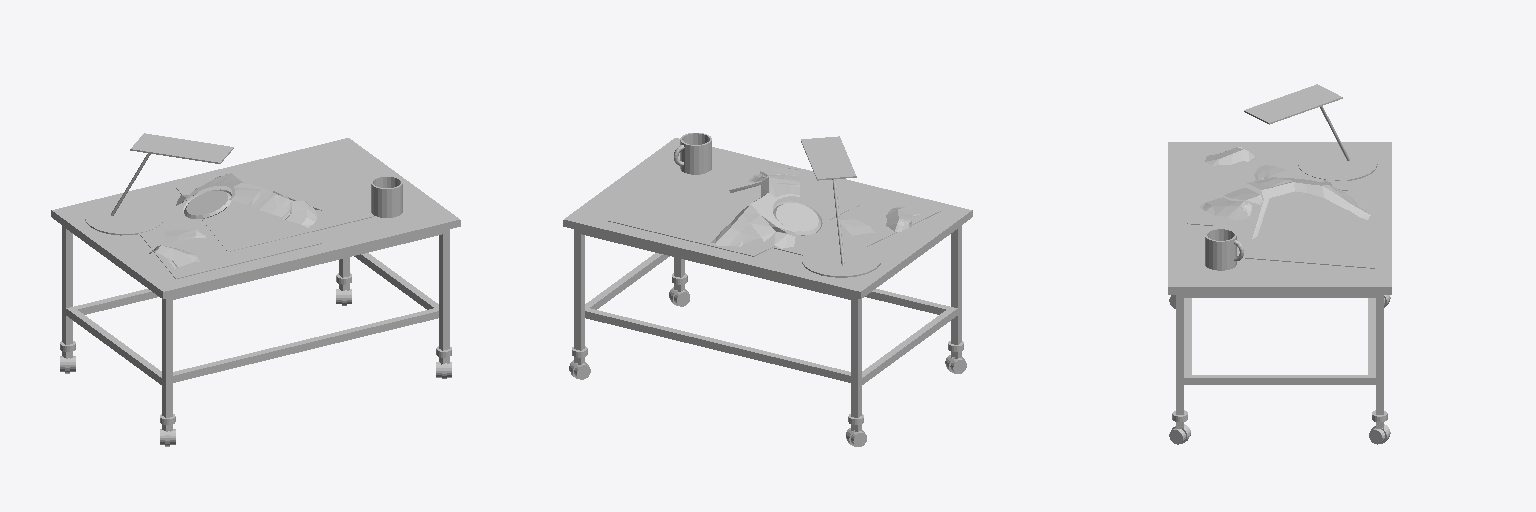
The model's file is Mesa.obj.
The picture shows the model from 3 angles: view 1: azimuth 30°, elevation 25°; view 2: azimuth 150°, elevation 25°; view 3: azimuth 270°, elevation 25°; orthographic projection.
Visible parts, largest first — view 1: pCube5, pasted__pCube10 group11, pCube10, pasted__pCube7 group10, pCylinder4, pCube9, group5 pasted__group pasted__pasted__pCube1, group5 pasted__pCube3, pasted__pasted__pCube4 pasted__group7 group8, polySurface1, pasted__pCube3 group, Chest:polySurface2pCylinder1polySurface5 polySurface4 (+6 smaller); view 2: pCube5, pasted__pCube10 group11, pCube10, Chest:polySurface2pCylinder1polySurface5 polySurface4, pCube7, pCylinder4, pCube9, pasted__pCube3 group, group pasted__pCube1, pasted__pasted__pCube4 pasted__group7 group8, polySurface1, group5 pasted__pCube3 (+5 smaller); view 3: pCube5, pasted__pCube10 group11, pCube10, pCylinder4, pasted__pCube4 group7, Chest:polySurface2pCylinder1polySurface5 polySurface4, pCube9, polySurface1, group5 pasted__group pasted__pasted__pCube1, group pasted__pCube1, polySurface6 Chest:polySurface2pCylinder1polySurface5, pasted__pCube7 group10 (+3 smaller).
Part boxes in pixels (x1,y1,x2,y2): pCube5: (51,138,460,298); pasted__pCube10 group11: (176,151,373,251); pCube10: (139,200,321,278); pasted__pCube7 group10: (173,307,438,382); pCylinder4: (85,201,163,235); pCube9: (130,133,233,163); group5 pasted__group pasted__pasted__pCube1: (439,229,449,364); group5 pasted__pCube3: (162,297,172,431); pasted__pasted__pCube4 pasted__group7 group8: (65,308,163,386); polySurface1: (371,176,402,217); pasted__pCube3 group: (62,226,72,358); Chest:polySurface2pCylinder1polySurface5 polySurface4: (176,173,321,210); pCube5: (563,138,972,298); pasted__pCube10 group11: (608,169,860,256); pCube10: (773,176,940,255); Chest:polySurface2pCylinder1polySurface5 polySurface4: (711,177,799,248); pCube7: (585,308,850,382); pCylinder4: (802,243,880,277); pCube9: (801,136,856,180); pasted__pCube3 group: (851,297,861,431); group pasted__pCube1: (574,229,584,364); pasted__pasted__pCube4 pasted__group7 group8: (860,307,959,386); polySurface1: (674,133,711,174); group5 pasted__pCube3: (951,226,961,358); pCube5: (1168,142,1391,294); pasted__pCube10 group11: (1215,184,1374,268); pCube10: (1187,152,1346,225); pCylinder4: (1298,147,1377,180); pasted__pCube4 group7: (1180,375,1379,384); Chest:polySurface2pCylinder1polySurface5 polySurface4: (1247,177,1370,238); pCube9: (1244,84,1342,124); polySurface1: (1205,228,1243,270); group5 pasted__group pasted__pasted__pCube1: (1176,295,1183,428); group pasted__pCube1: (1376,295,1383,429); polySurface6 Chest:polySurface2pCylinder1polySurface5: (1199,197,1251,219); pasted__pCube7 group10: (1184,298,1191,374).
Bounding box in the file's own units: 4.3 × 3.3 × 2.8.